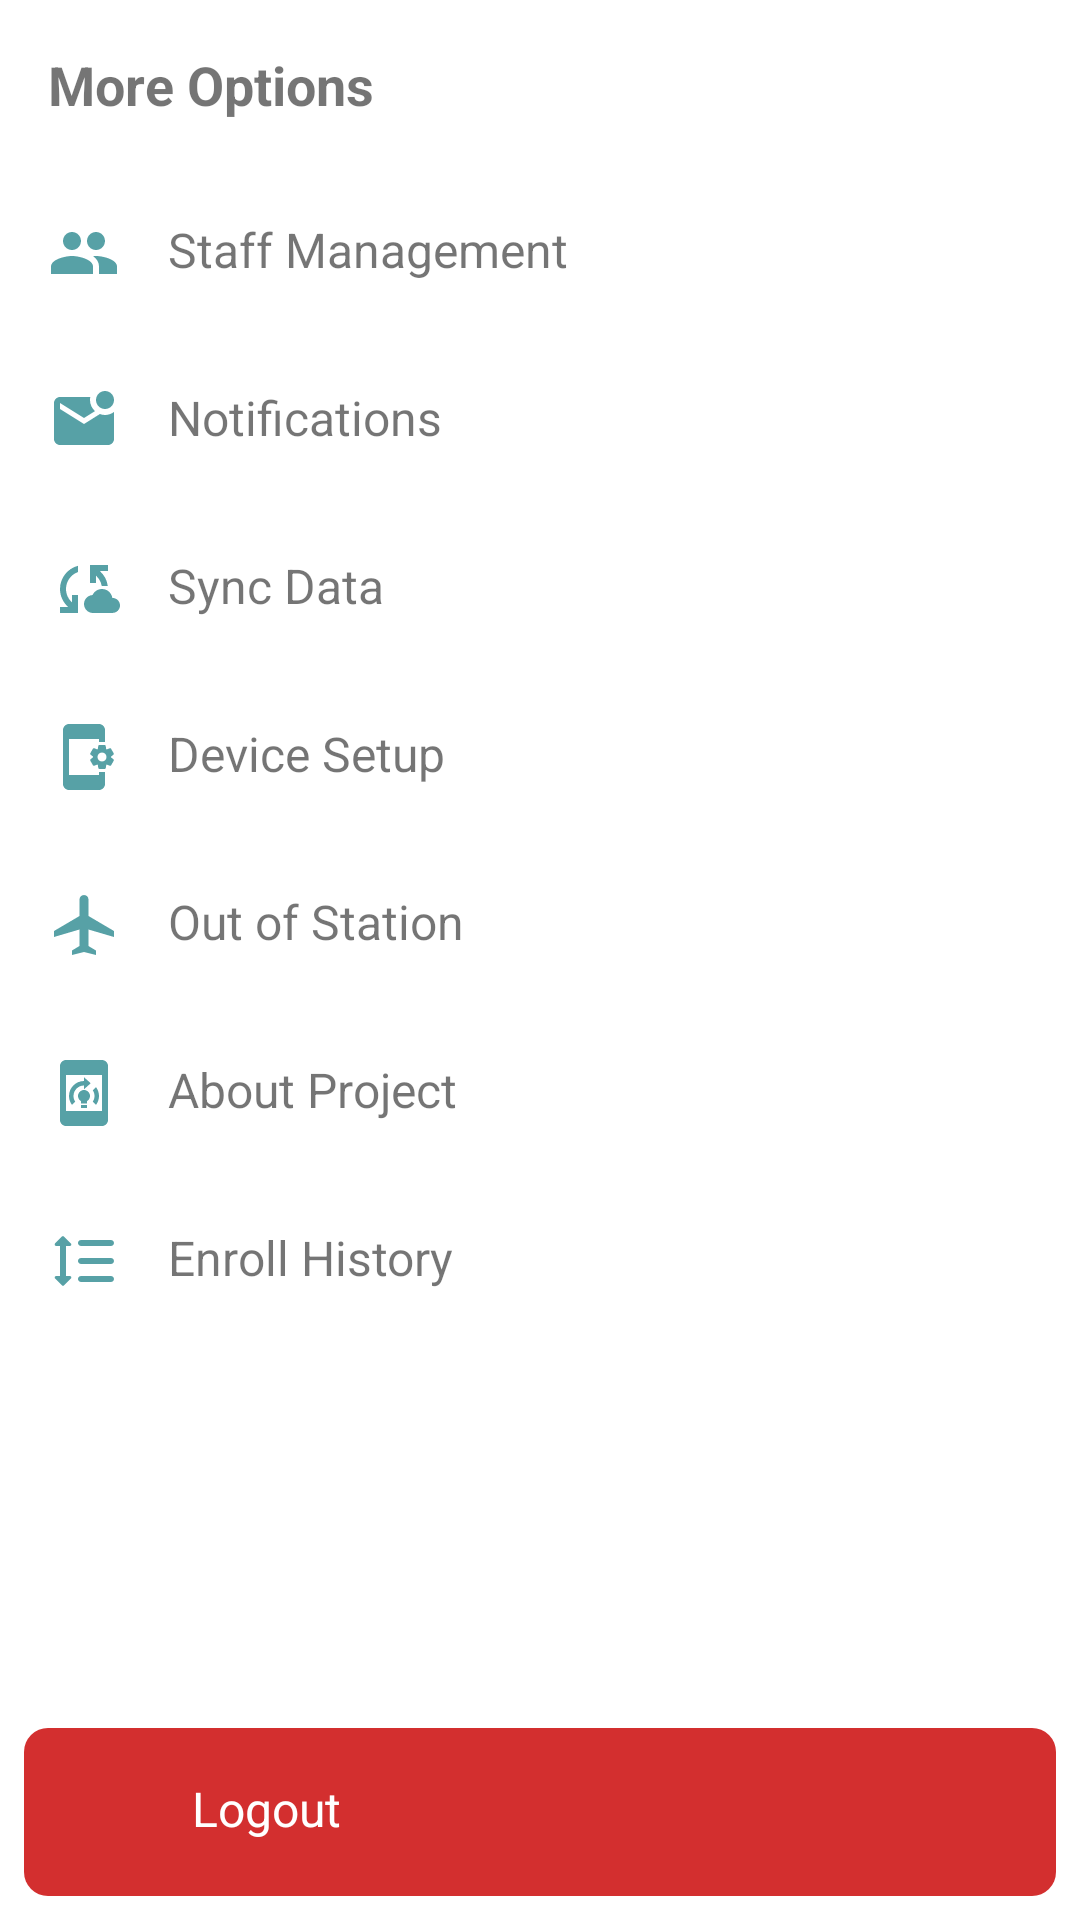

Screen size 1080 x 1920. Icon name, then its box in pixels as (x1, y1, x2, y2):
device settings: (63, 724, 114, 790)
